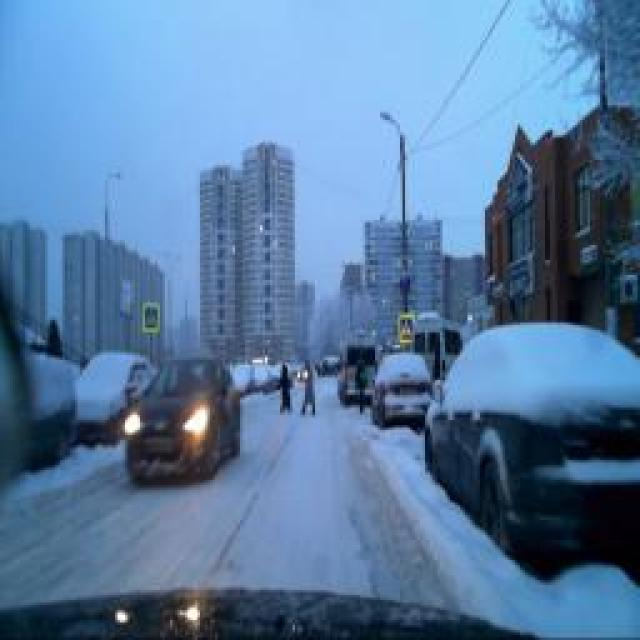sign: (398, 269, 414, 296)
